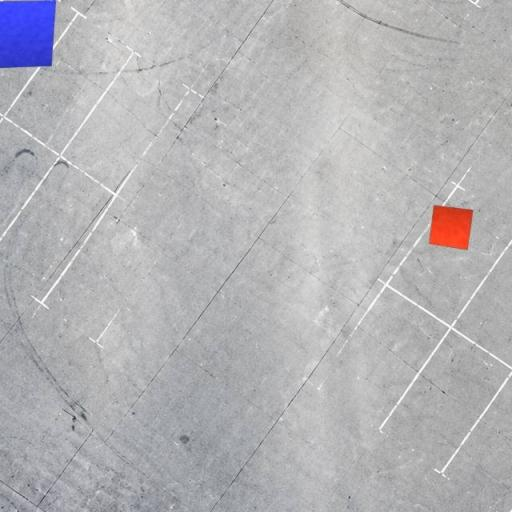BLUE_SQUARE: (0, 0, 57, 69)
RED_SQUARE: (428, 204, 474, 250)
